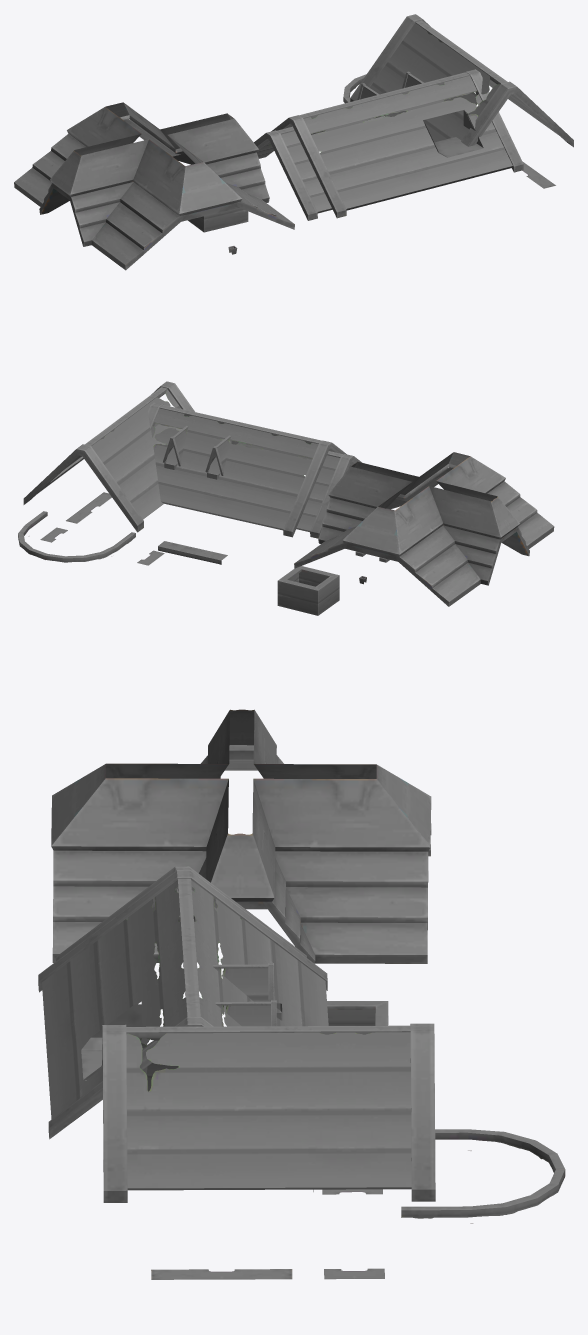
The model's file is pref_sm_garden_house_vertexcolor02_lv2.fbx.
The picture shows the model from 3 angles, top to bottom: view 1: azimuth 30°, elevation 25°; view 2: azimuth 150°, elevation 25°; view 3: azimuth 270°, elevation 25°; orthographic projection. The views are drawn at different scales.
Parts seen in each view (by area): view 1: sm_garden_house_vertexcolor02_lv2; view 2: sm_garden_house_vertexcolor02_lv2; view 3: sm_garden_house_vertexcolor02_lv2.
Boxes of the visible parts, x1,y1,x2,y2 form: sm_garden_house_vertexcolor02_lv2: (14,14,573,270); sm_garden_house_vertexcolor02_lv2: (18,381,554,615); sm_garden_house_vertexcolor02_lv2: (38,709,565,1279).
Size of the model in its own units: 19.66 by 6.27 by 12.03.
